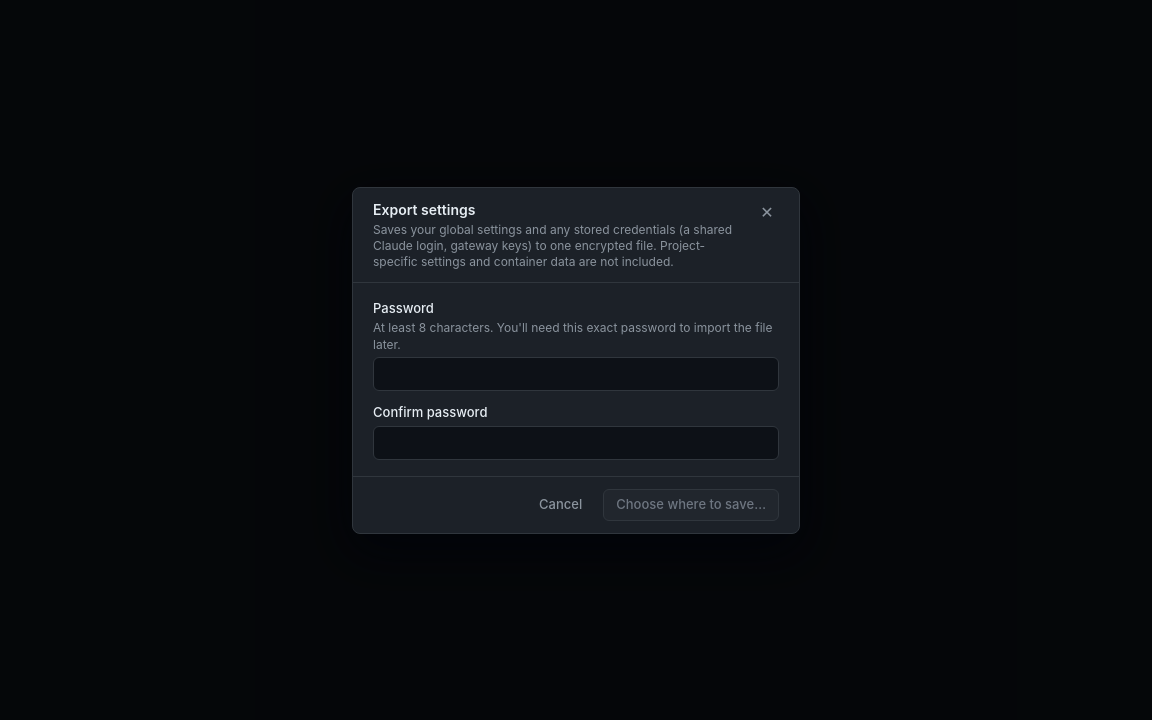
Test: ExportSettingsModal › exports with the entered password and shows success
Type "longenoughpassword" into the password field labelled "Password". click: (576, 374)
box: 373,357 -> 779,390
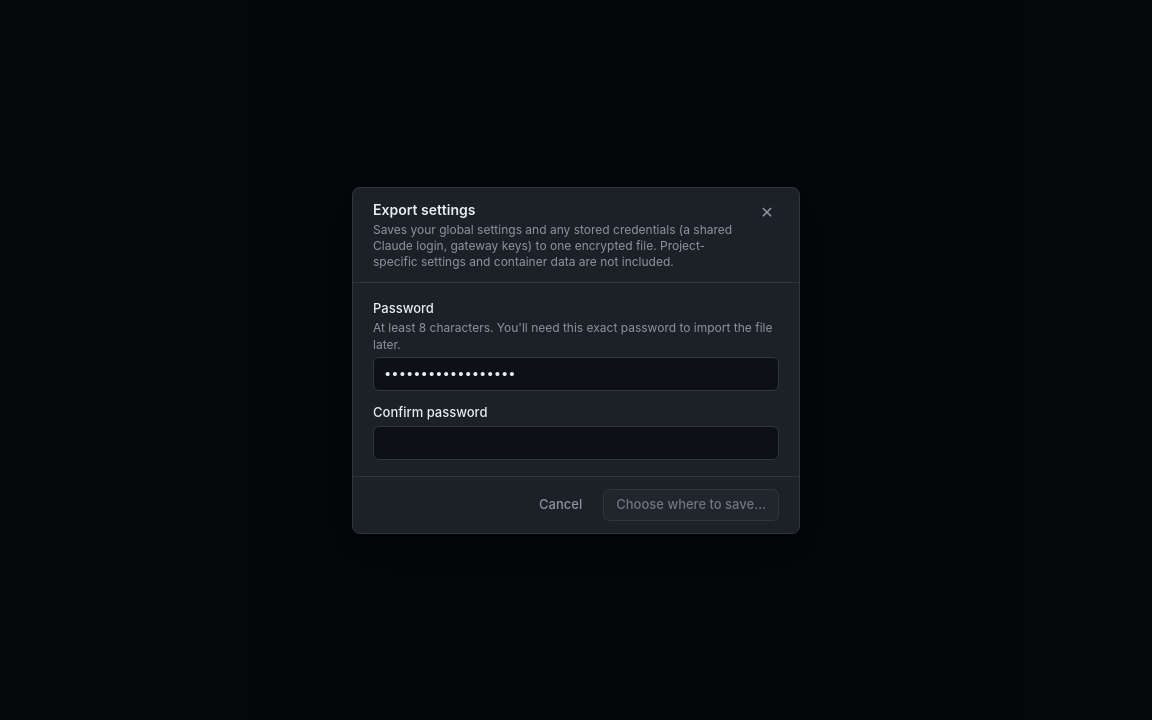
Type "longenoughpassword" into the password field labelled "Confirm password". click: (576, 443)
box: 373,426 -> 779,460
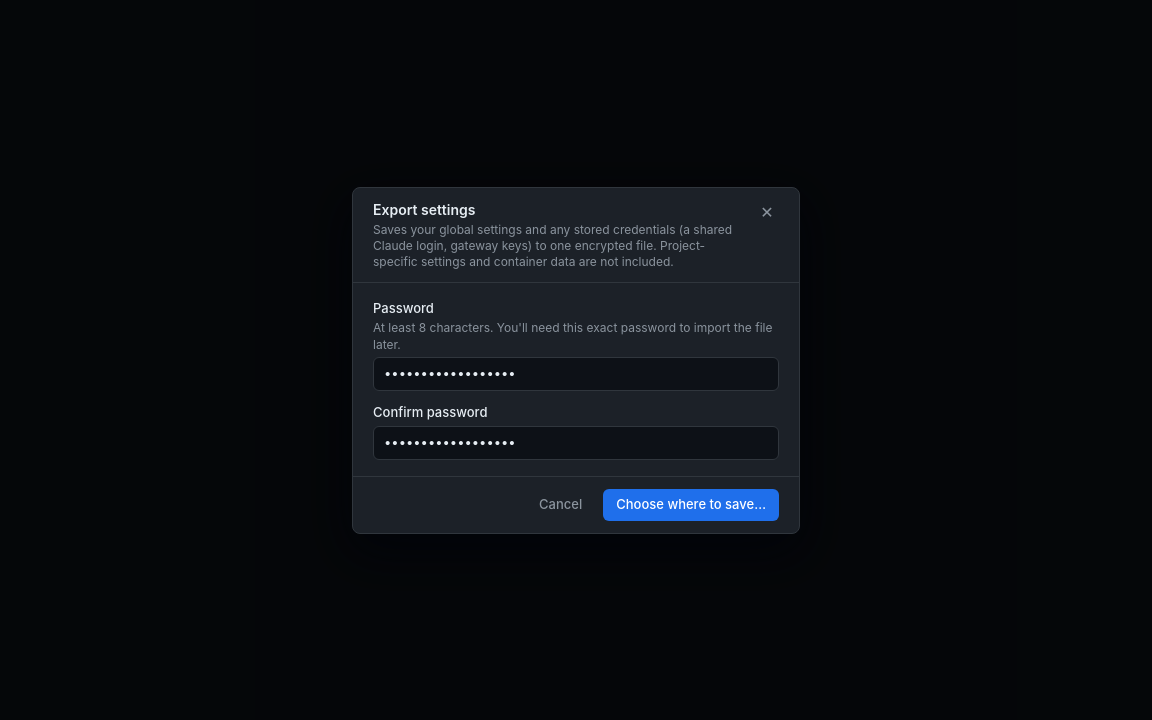
Click the button "Choose where to save…". click: (691, 504)
box: 603,488 -> 779,520
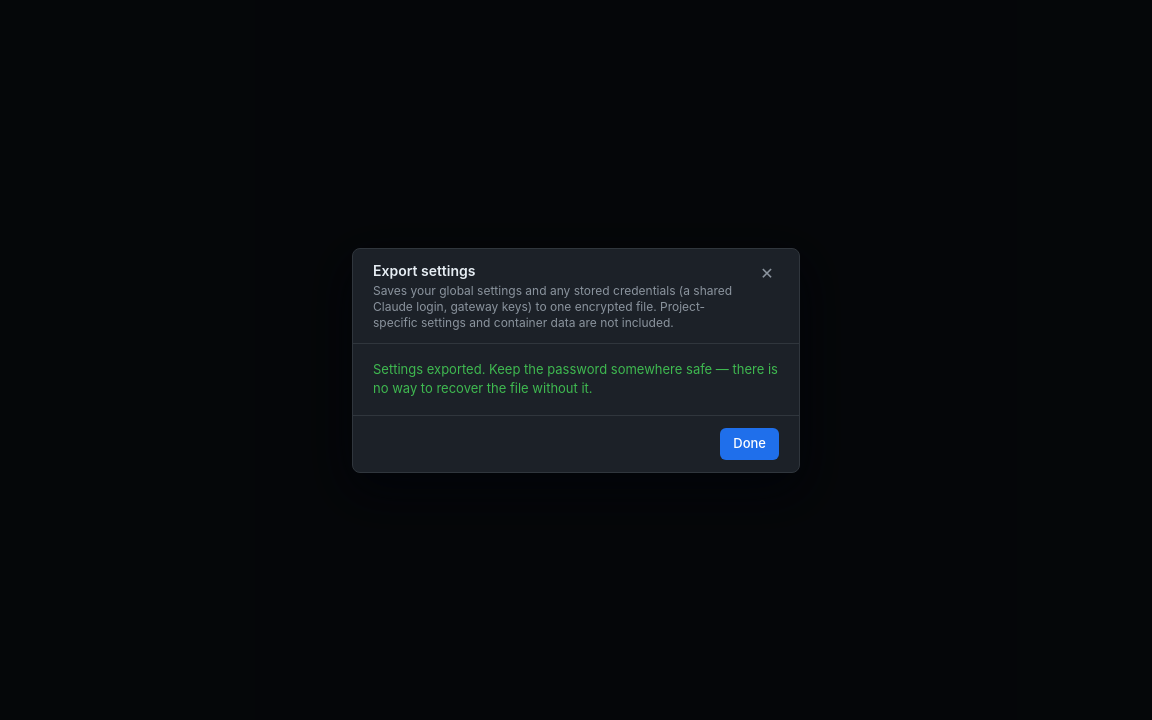
Now the text "Settings exported" is shown, box 373,360 -> 778,396
